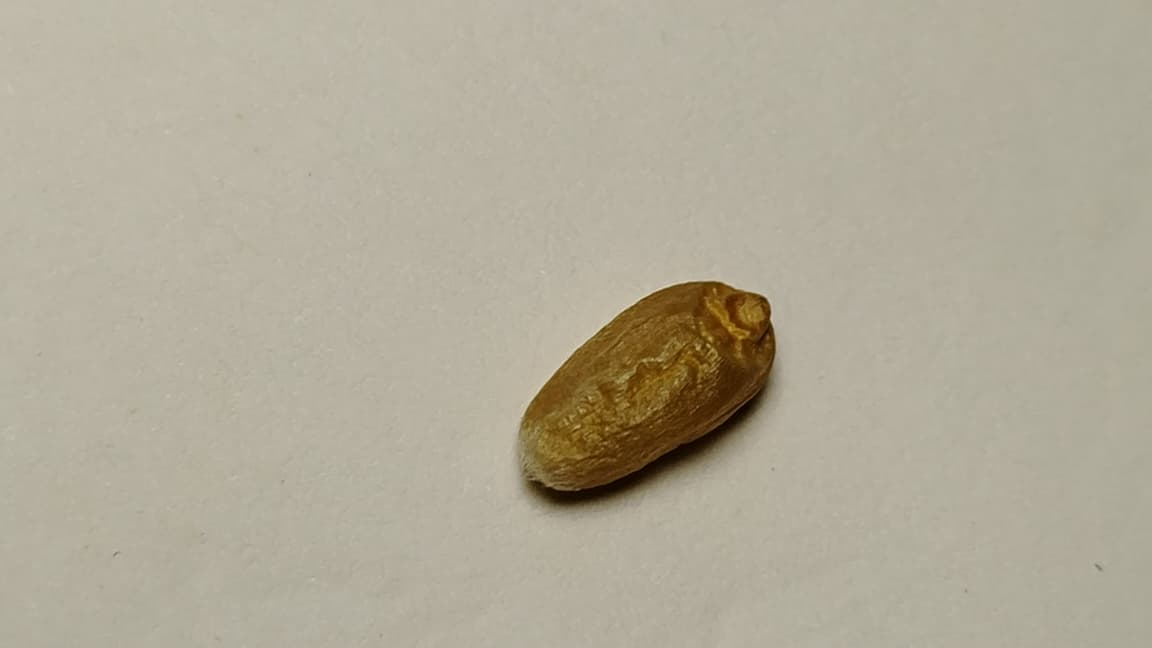healthy: (519, 282, 774, 488)
